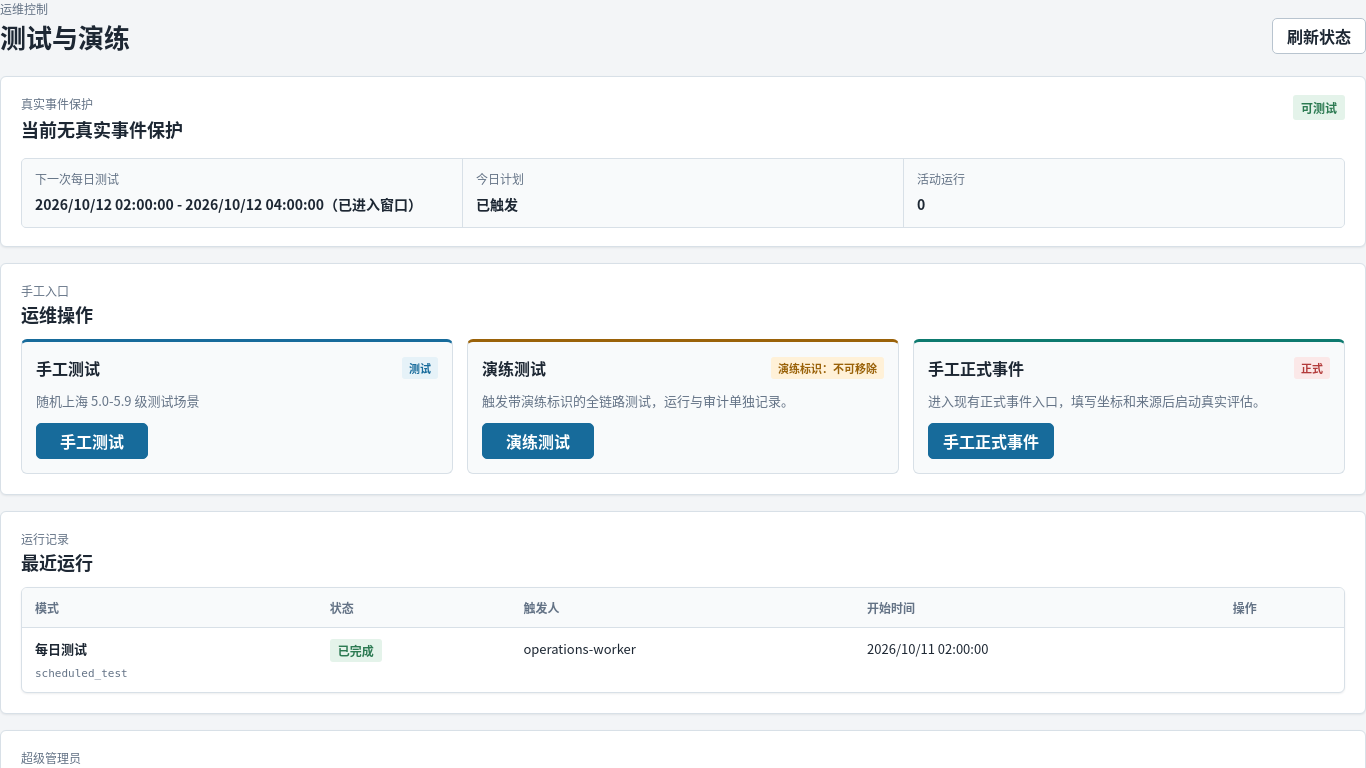
Test: shows canceled drill feedback without a fake run number when there is no run
What coordinates should you click on to do the following:
click the button "演练测试"
I would click on:
 (538, 441)
Its box is [482,423,594,459].
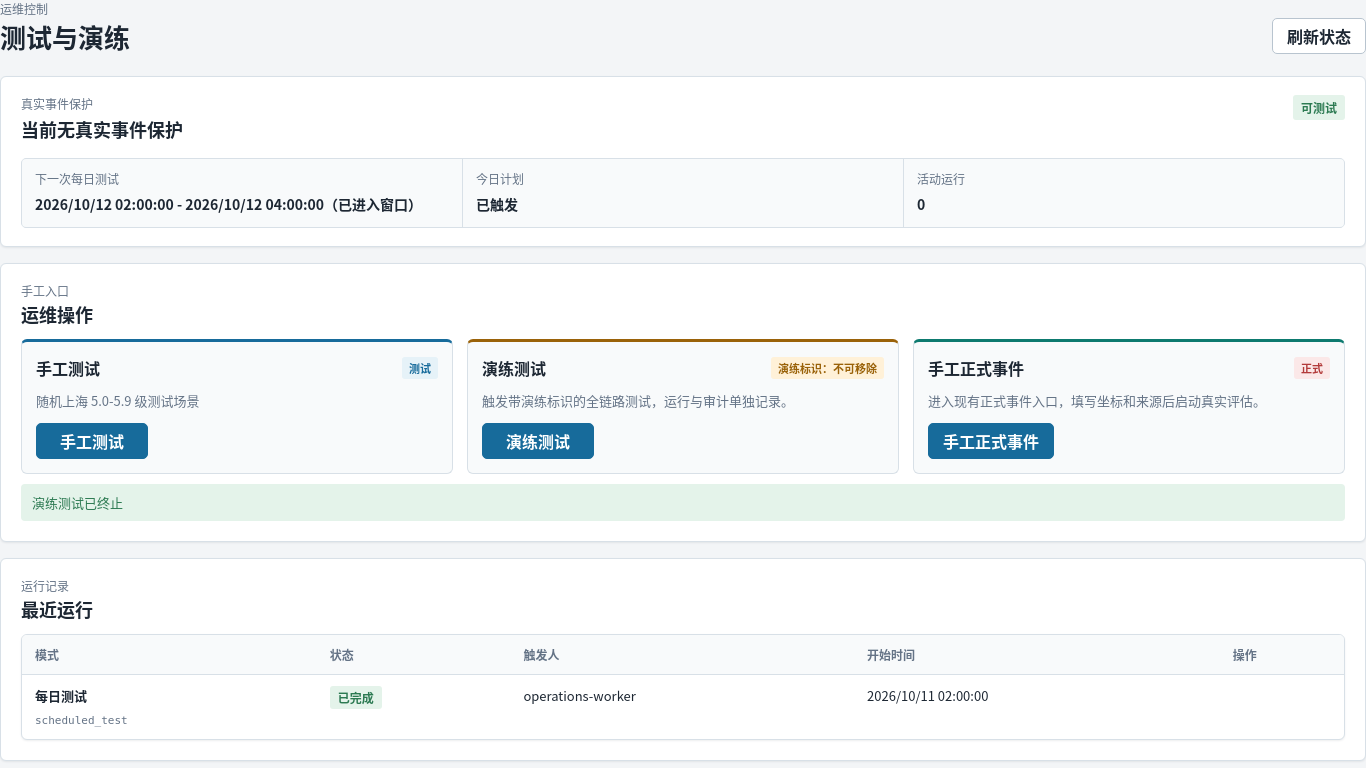
Expected: the text "演练测试已终止" is shown, [21,484,1345,521]
